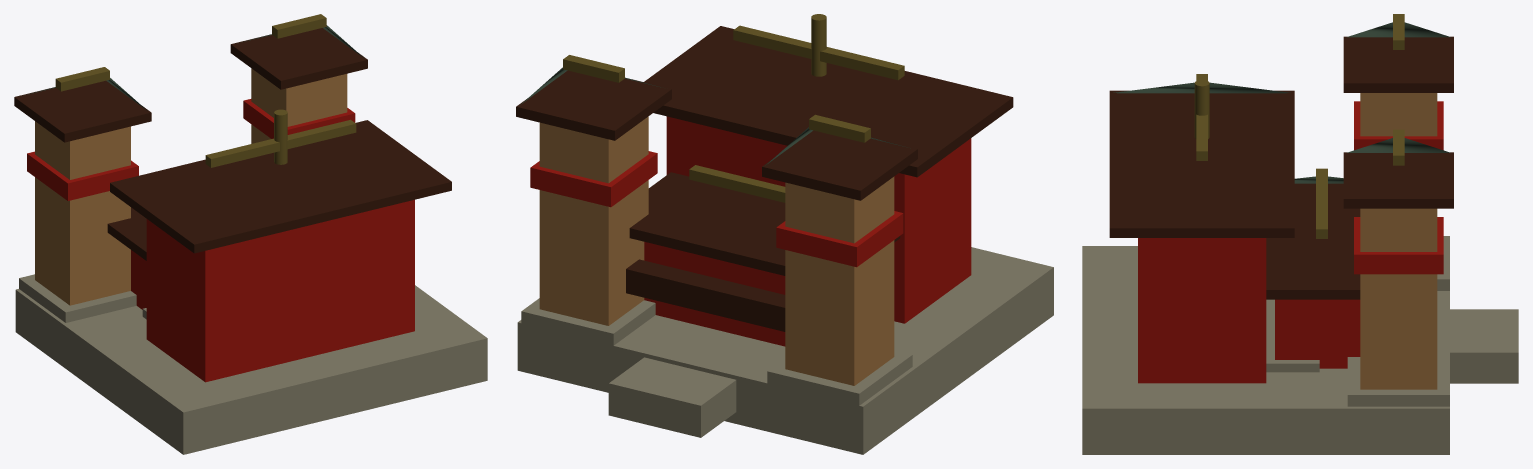
Rendered from NorthPalace.fbx.
3 renders of one model, left to right at view 1: azimuth 30°, elevation 25°; view 2: azimuth 150°, elevation 25°; view 3: azimuth 270°, elevation 25°, orthographic. The views are drawn at different scales.
Visible parts, largest first — view 1: main_hall_body, platform, main_hall_eave, east_que_body, east_que_eave, west_que_eave, west_que_body, east_que_belt, east_que_base, main_hall_ridge, west_que_belt, front_hall_eave (+4 smaller); view 2: platform, main_hall_eave, east_que_body, west_que_body, main_hall_body, front_hall_eave, south_stair, west_que_eave, east_que_eave, gate_beam, east_que_base, front_hall_body (+8 smaller); view 3: platform, main_hall_eave, main_hall_body, west_que_body, front_hall_eave, west_que_eave, east_que_eave, front_hall_body, south_stair, east_que_body, west_que_base, west_que_belt (+10 smaller).
Boxes of the visible parts, box(x1,y1,x2,y2) form: main_hall_body: box(146, 199, 414, 382); platform: box(15, 285, 487, 454); main_hall_eave: box(110, 120, 451, 253); east_que_body: box(35, 121, 130, 305); east_que_eave: box(14, 80, 151, 142); west_que_eave: box(230, 28, 367, 89); west_que_body: box(251, 68, 347, 143); east_que_belt: box(27, 151, 138, 200); east_que_base: box(19, 274, 136, 322); main_hall_ridge: box(205, 119, 356, 167); west_que_belt: box(243, 99, 355, 138); front_hall_eave: box(107, 207, 146, 260); platform: box(517, 247, 1053, 454); main_hall_eave: box(644, 26, 1013, 177); east_que_body: box(785, 176, 894, 385); west_que_body: box(539, 116, 648, 325); main_hall_body: box(666, 116, 971, 323); front_hall_eave: box(629, 172, 900, 275); south_stair: box(608, 357, 736, 437); west_que_eave: box(516, 70, 671, 140); east_que_eave: box(762, 130, 917, 200); gate_beam: box(626, 259, 785, 331); east_que_base: box(767, 350, 912, 433); front_hall_body: box(644, 242, 785, 346); platform: box(1082, 246, 1449, 454); main_hall_eave: box(1109, 90, 1294, 237); main_hall_body: box(1138, 238, 1266, 383); west_que_body: box(1360, 208, 1437, 389); front_hall_eave: box(1266, 183, 1360, 299); west_que_eave: box(1343, 152, 1453, 208); east_que_eave: box(1343, 36, 1453, 92); front_hall_body: box(1275, 299, 1360, 368); south_stair: box(1450, 309, 1518, 383); east_que_body: box(1360, 93, 1437, 136); west_que_base: box(1347, 351, 1449, 406); west_que_belt: box(1354, 217, 1443, 274).
Size of the model in its own units: 90 by 75 by 102.
